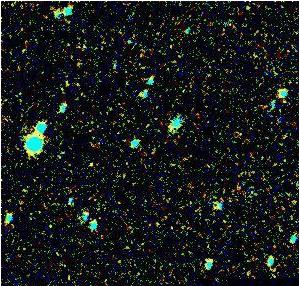star: (76, 147, 106, 177)
